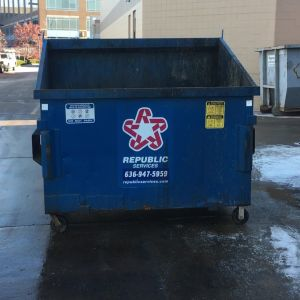Dumpster: (28, 33, 265, 230)
